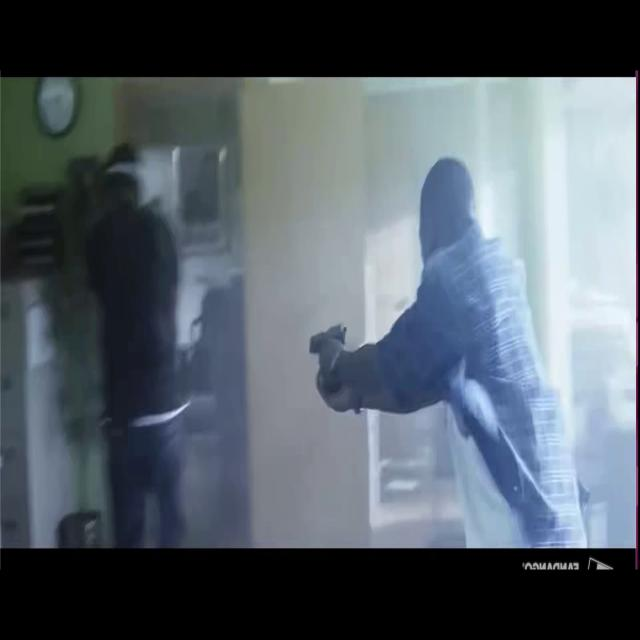weapons: (305, 300, 357, 420)
